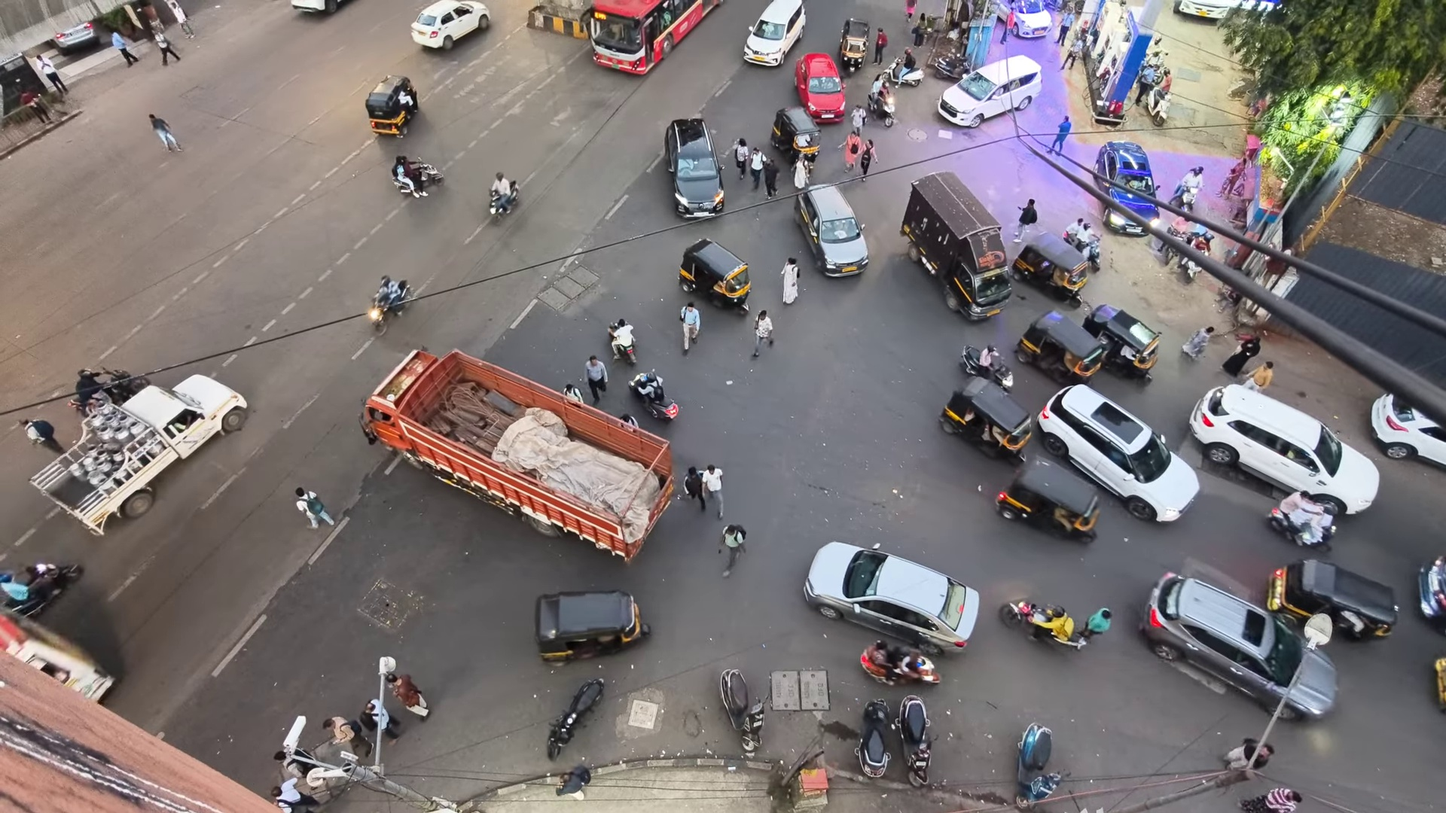driving: (362, 350, 672, 559), (30, 375, 246, 534), (1140, 573, 1336, 719), (1191, 385, 1379, 513), (1036, 385, 1199, 522), (804, 542, 980, 655), (900, 171, 1011, 319), (1266, 559, 1399, 639), (0, 611, 114, 701), (585, 0, 721, 74), (996, 458, 1098, 542), (535, 592, 650, 663), (941, 376, 1031, 461), (937, 55, 1042, 127), (796, 185, 869, 276), (1015, 311, 1106, 382), (1082, 304, 1160, 382), (664, 119, 724, 218), (1011, 233, 1088, 306), (1095, 141, 1159, 224), (679, 238, 750, 312), (1370, 394, 1445, 464), (547, 678, 604, 759), (0, 562, 83, 617), (999, 600, 1087, 650), (1015, 723, 1063, 809), (743, 0, 806, 65), (411, 0, 490, 50), (720, 668, 764, 754), (860, 641, 941, 685), (795, 53, 846, 122), (895, 696, 932, 787), (365, 76, 419, 137), (1268, 506, 1336, 551), (770, 105, 821, 165), (855, 699, 889, 778), (628, 370, 679, 421), (959, 345, 1013, 391), (367, 280, 411, 335), (993, 0, 1052, 38), (1417, 556, 1445, 633), (392, 159, 444, 196), (839, 17, 871, 72), (51, 21, 99, 53), (489, 180, 521, 220), (609, 319, 636, 365), (868, 83, 895, 127), (886, 56, 924, 86), (291, 0, 346, 14)
walking: (385, 672, 429, 719), (322, 717, 371, 758), (271, 777, 319, 812), (295, 487, 334, 528), (1223, 738, 1274, 769), (1222, 335, 1260, 376), (1240, 787, 1302, 812), (19, 419, 63, 453), (719, 524, 746, 577), (273, 748, 315, 778), (148, 114, 182, 151), (556, 764, 590, 799), (36, 55, 67, 93), (585, 355, 608, 405), (701, 464, 722, 518), (166, 0, 194, 38), (680, 301, 700, 354), (752, 309, 773, 358), (1182, 326, 1213, 358), (20, 90, 50, 123), (1013, 199, 1036, 242), (683, 467, 705, 511), (111, 31, 139, 65), (1048, 115, 1072, 154), (1081, 608, 1112, 638), (840, 129, 862, 171), (154, 31, 180, 65), (1243, 361, 1272, 391), (1060, 35, 1084, 71), (1135, 65, 1157, 104), (782, 257, 798, 304), (859, 139, 876, 180), (358, 700, 379, 732), (734, 139, 750, 179), (1057, 8, 1075, 43), (749, 148, 764, 190), (763, 157, 778, 198), (793, 154, 809, 190), (1000, 5, 1015, 41), (874, 28, 887, 64), (850, 104, 867, 131), (911, 21, 924, 47), (905, 0, 917, 21)
